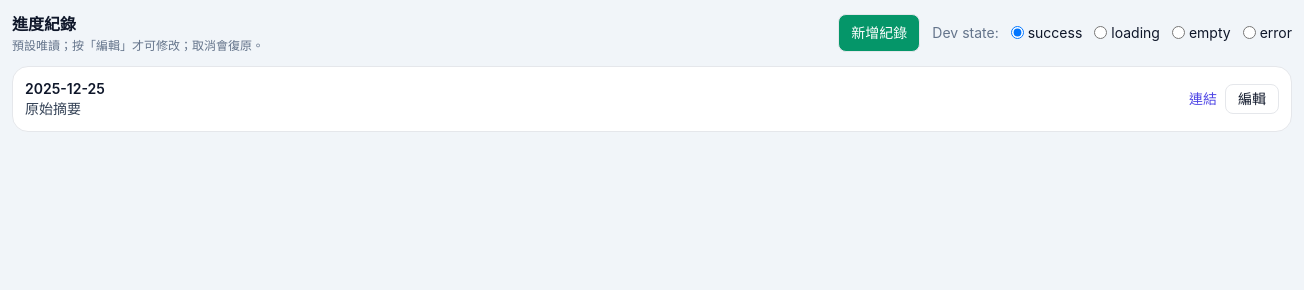
Test case: progress log state transitions › should stay read-only until edit, and cancel reverts changes
Expected: the text with test id "progress-log-summary" reads "原始摘要", [25, 100, 81, 117]
Expected: the text with test id "progress-log-link" reads "連結", [1189, 90, 1217, 107]
Click the button with aria-label "編輯進度": click(1252, 99) [1225, 84, 1279, 114]
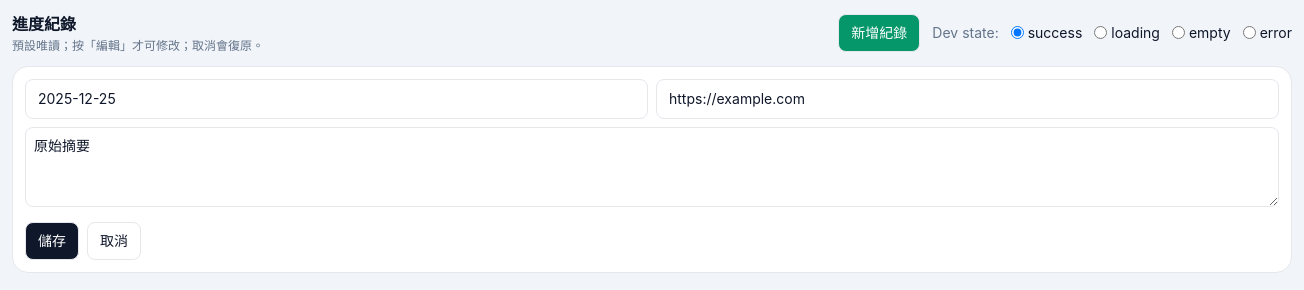
Replace the text in the text box with placeholder "簡短說明" with "新摘要": (652, 167) [25, 127, 1279, 207]
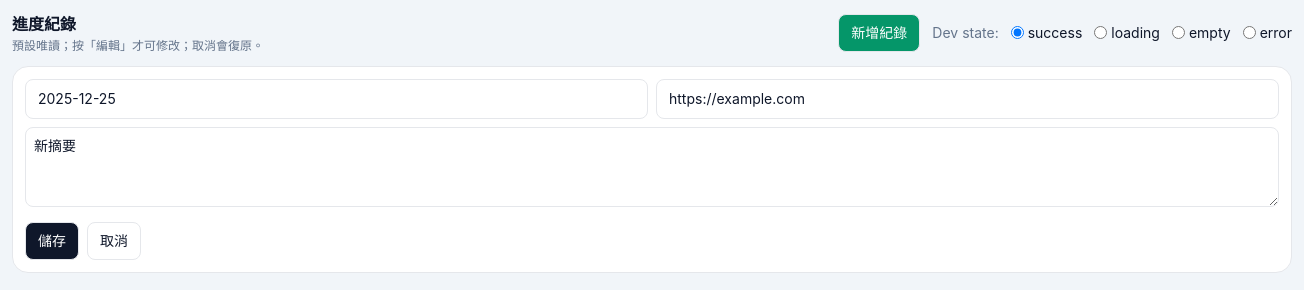
Click the button with test id "progress-log-cancel": click(114, 241) [87, 222, 141, 260]
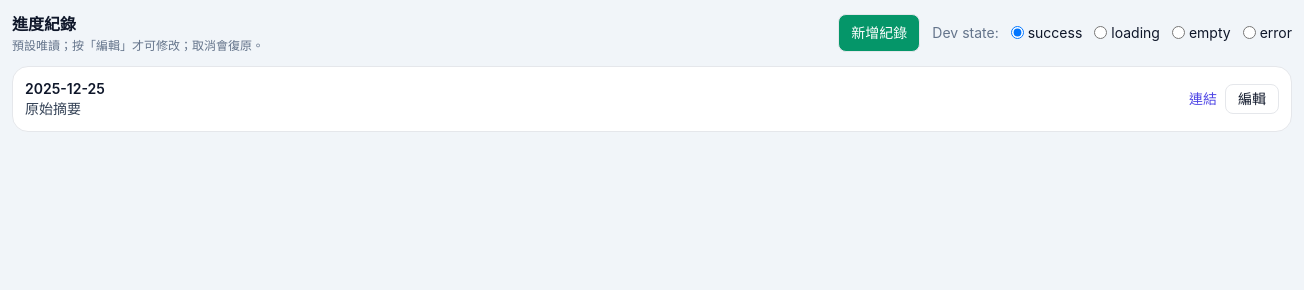
Expected: the text with test id "progress-log-summary" reads "原始摘要", [25, 100, 81, 117]
Click the button with aria-label "編輯進度": click(1252, 99) [1225, 84, 1279, 114]
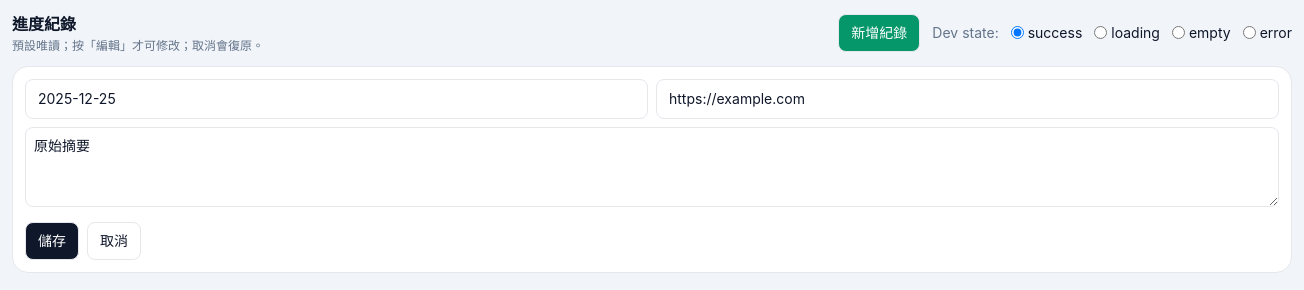
Replace the text in the text box with placeholder "簡短說明" with "保存後摘要": (652, 167) [25, 127, 1279, 207]
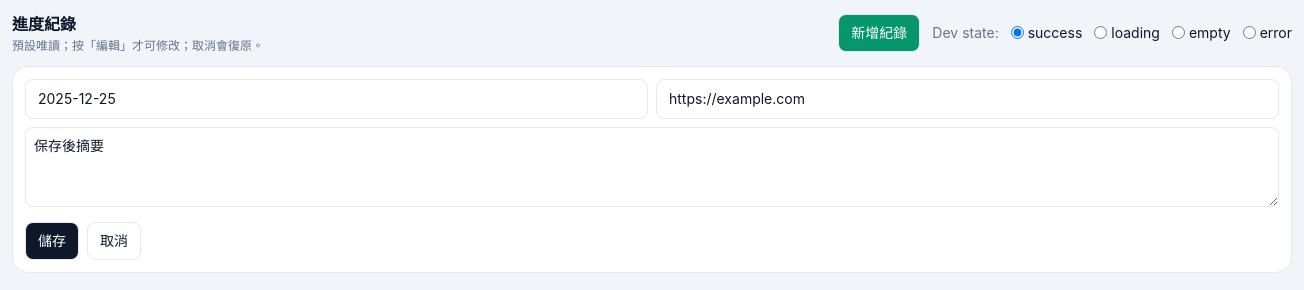
Click the button "儲存": click(52, 241) [25, 222, 79, 260]
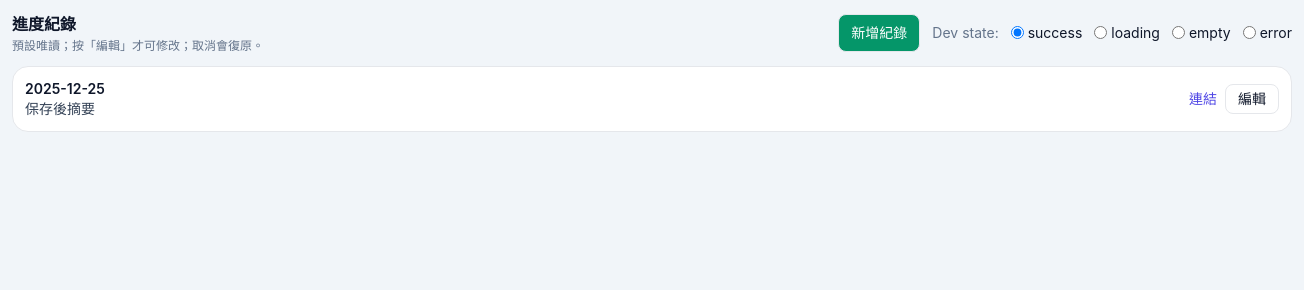
Expected: the text with test id "progress-log-summary" reads "保存後摘要", [25, 100, 95, 117]
